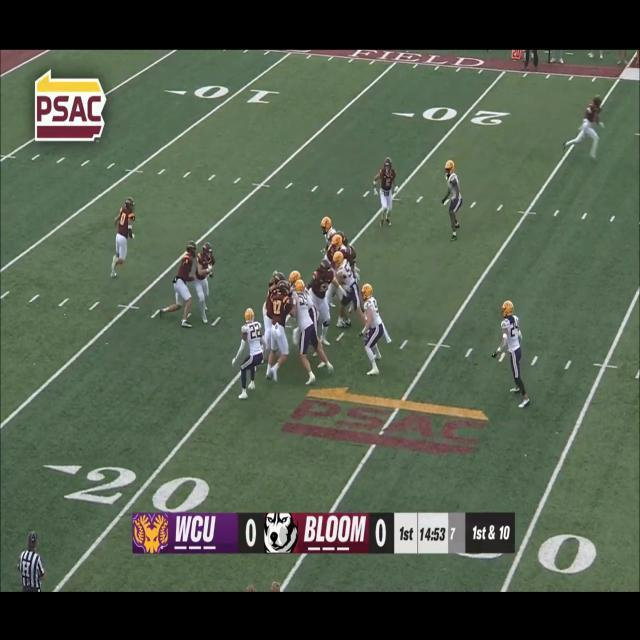football: (206, 264, 214, 278)
